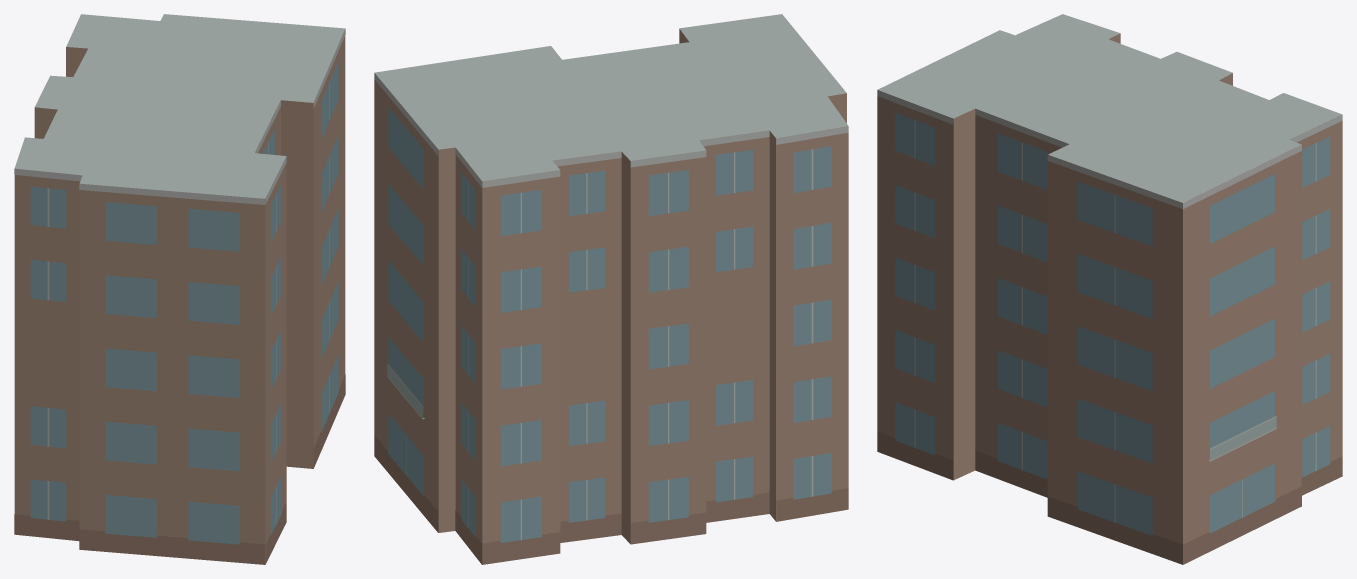
File: survey-upis-32678827.glb
3 views of the same model, side by side, from view 1: azimuth 30°, elevation 25°; view 2: azimuth 150°, elevation 25°; view 3: azimuth 270°, elevation 25° (orthographic). The views are drawn at different scales.
Parts seen in each view (by area): view 1: survey-upis-32678827.tmp; view 2: survey-upis-32678827.tmp; view 3: survey-upis-32678827.tmp.
Boxes of the visible parts, left/top/right/bottom form: survey-upis-32678827.tmp: left=14, top=14, right=345, bottom=564; survey-upis-32678827.tmp: left=374, top=14, right=848, bottom=564; survey-upis-32678827.tmp: left=877, top=14, right=1342, bottom=564.
Size of the model in its own units: 16.03 by 14.3 by 16.68.
